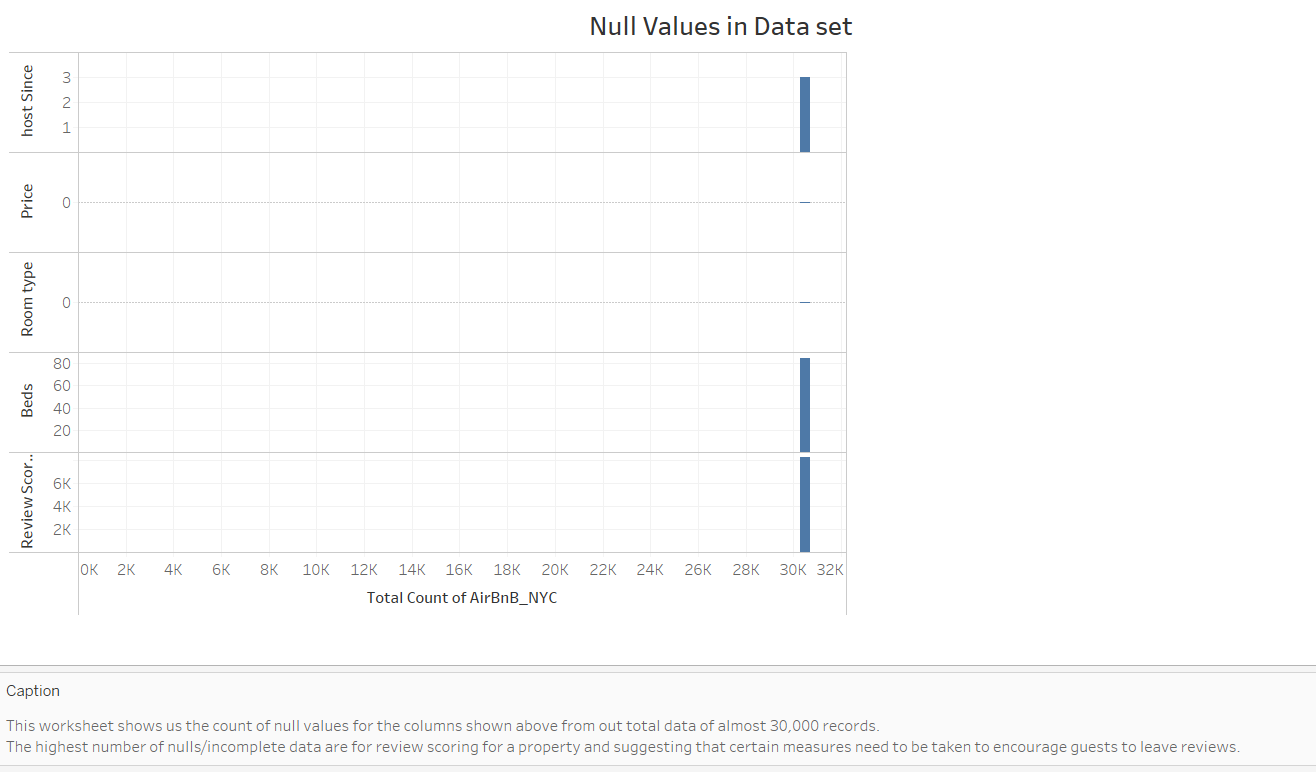

Layout of this report page (visuals, bound fields, positions):
{"tool":"tableau","page":{"name":"EDA- Dashboard","canvas":[650,860],"ordinal":1},"visuals":[{"type":"worksheet","title":"Null Values EDA","mark":"Bar","rows":["Calculation_2514416011508514818","Calculation_2514416011509112835","Calculation_2514416011510079492","Calculation_2514416011510882309","Calculation_2514416011508121601"],"cols":["AirBnB!NYC_8901A0BCB46B42B5BB22FC5E8AA1D295"],"box":[8,8.1,634,843.8]}]}

Visuals, with their boxes on the page's 650x860 design canvas (x1, y1, x2, y2). These are canvas units, not pixel positions in the 1316x772 screenshot, which may show the page scaled, cropped or inside an application window:
"Null Values EDA" worksheet (Bar marks): x1=8, y1=8, x2=642, y2=852
